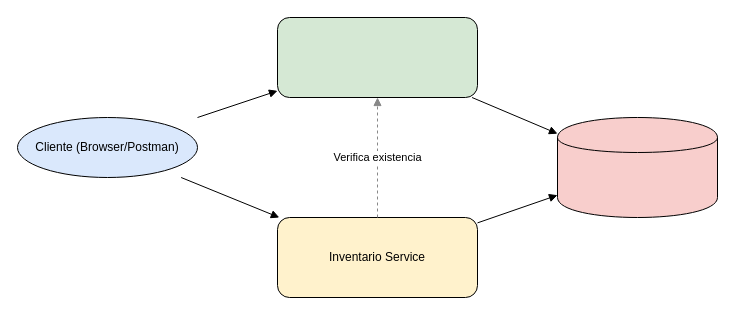
Some shapes in this 736 by 315 pixel diagram are drawn without their labels. The centre of each missing label's shape, as x and y in pixels:
"PostgreSQL\n(products_pe3x)" belongs at point 637,167.
"Productos Service" belongs at point 377,57.
